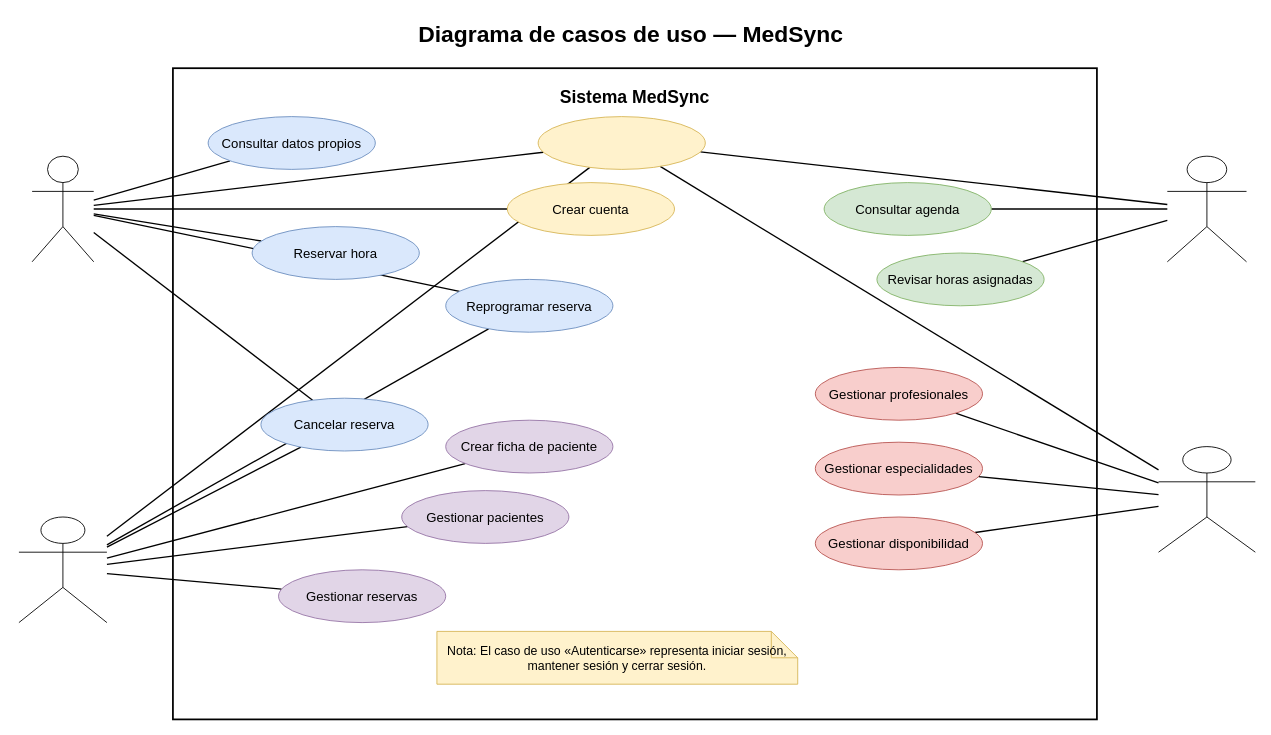
This 1271x735 diagram has some shape labels left out. The box of each missing label's shape, as (x1, y1, x2, y2) in pixels:
Administrador de centro: (1158, 446, 1255, 552)
Autenticarse: (537, 116, 705, 169)
Paciente: (31, 155, 94, 262)
Profesional: (1166, 155, 1247, 262)
Recepcionista: (18, 516, 107, 623)
